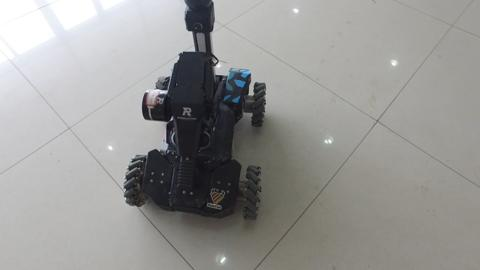chariot: (122, 16, 266, 225)
